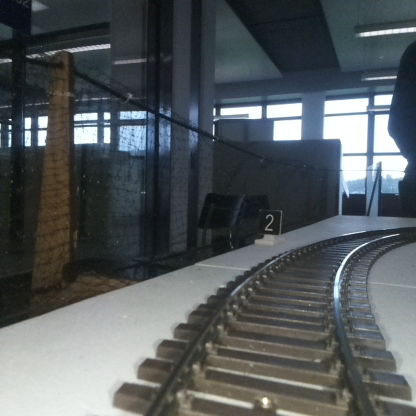black-stop-2: (259, 210, 280, 244)
